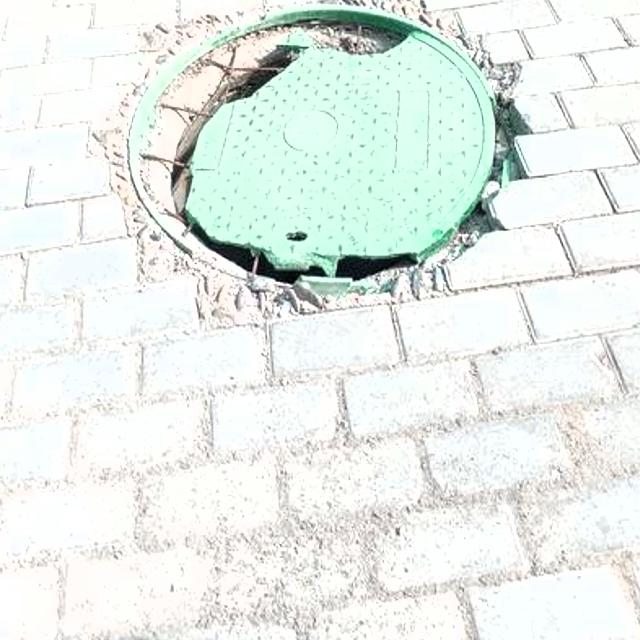broke: (90, 0, 543, 308)
